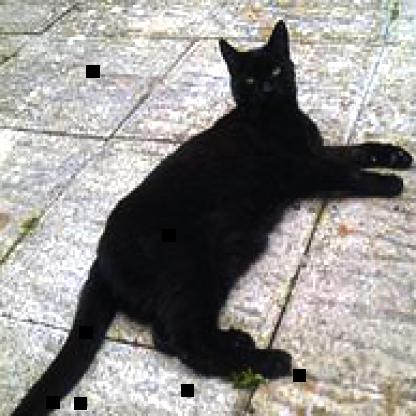cat: (6, 17, 415, 414)
